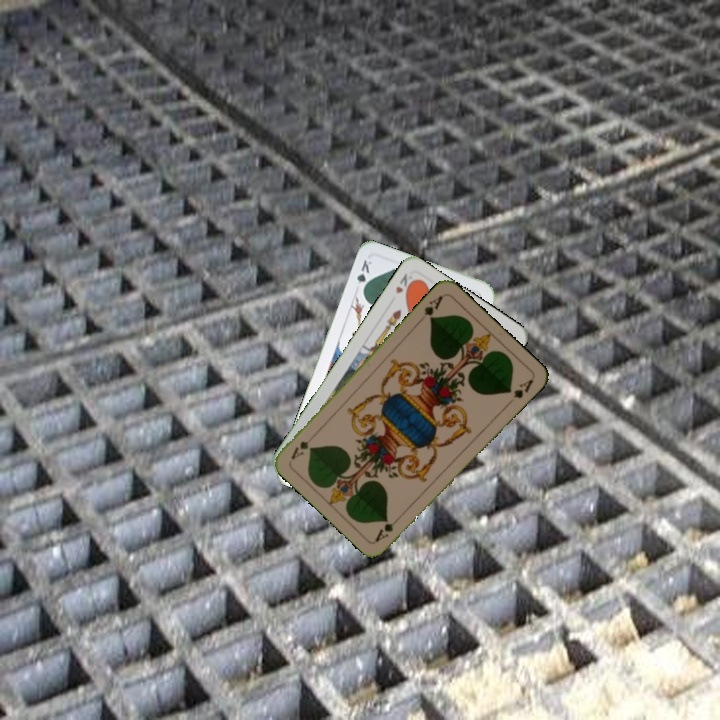GA: (371, 511, 404, 544), (420, 291, 445, 323)
GK: (353, 255, 374, 295)
HK: (391, 269, 417, 298)
